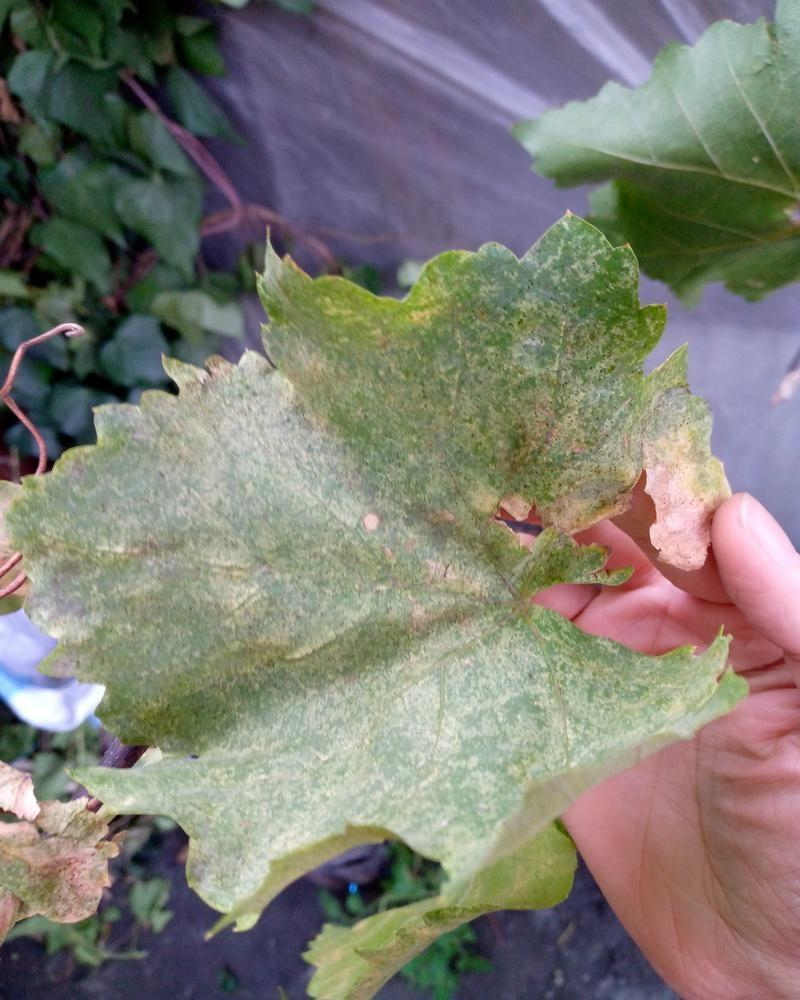Powdery-Mildew: (309, 691, 515, 878), (151, 373, 338, 519), (602, 400, 721, 556), (407, 551, 470, 614), (200, 562, 263, 625)
